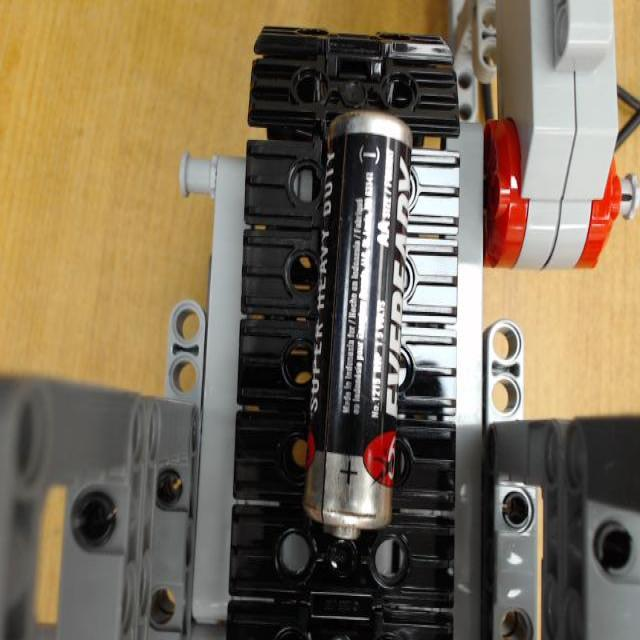AA: (302, 109, 412, 542)
